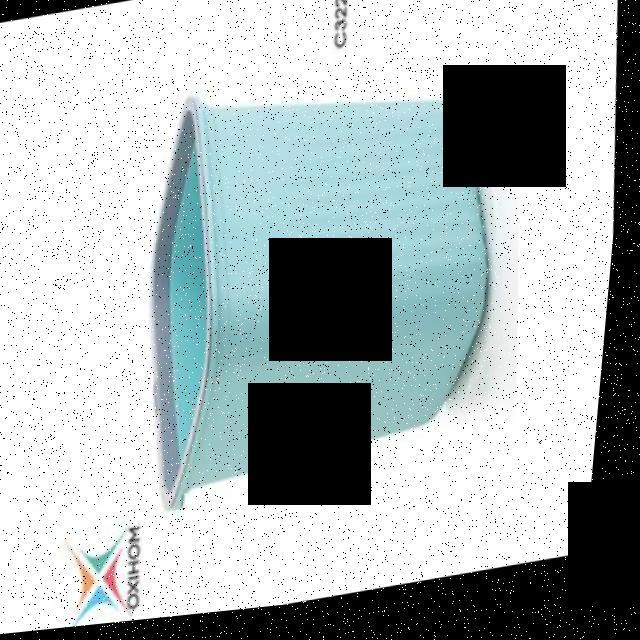bin: (119, 33, 538, 531)
